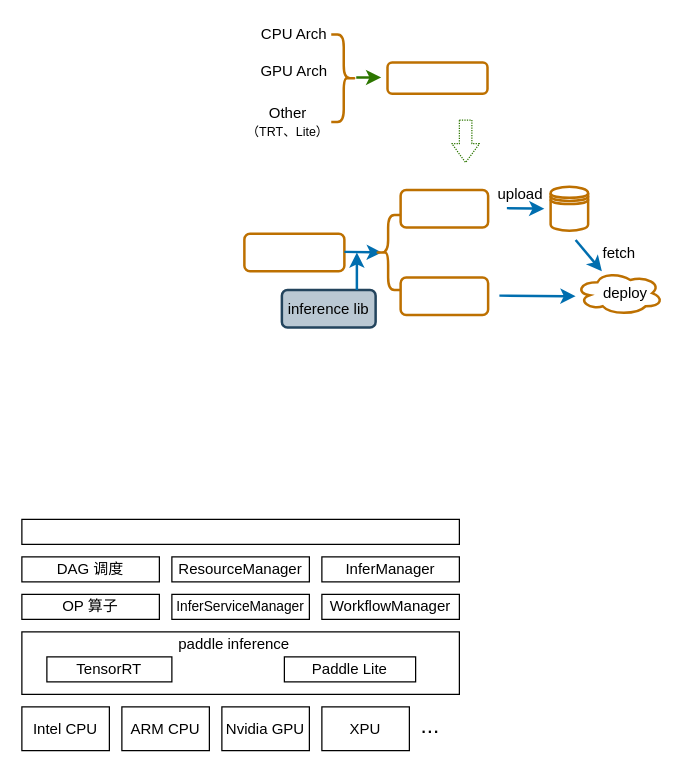
This 686x773 diagram has some shape labels left out. The shapes that lost their labels are listed below. From the top down, each one's centre as x and y in pixels, then its label:
(437,77): version_label
(444,208): serving_bin
(569,208): bos
(293,252): serving code
(444,296): serving_sever whl
(240,531): Brpc Server
